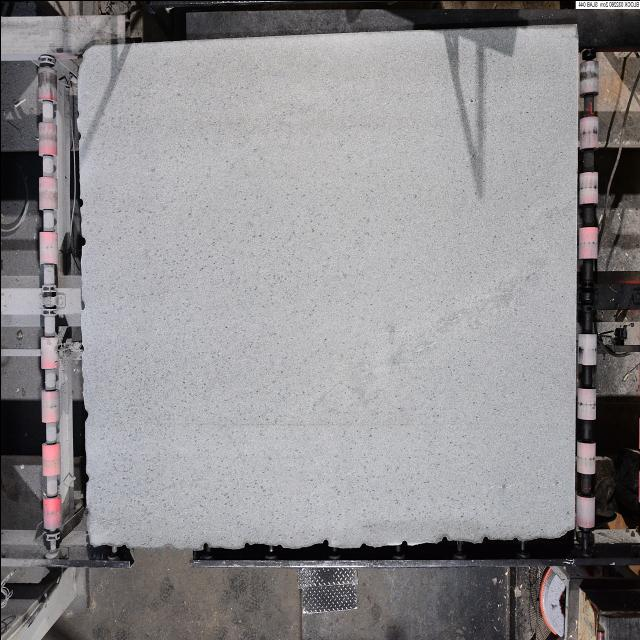chapa: (78, 26, 576, 548)
veio: (479, 532, 490, 546), (320, 536, 330, 550), (200, 540, 210, 552), (82, 404, 88, 422), (80, 232, 86, 248), (399, 537, 408, 547), (77, 196, 83, 210), (441, 534, 449, 544)
